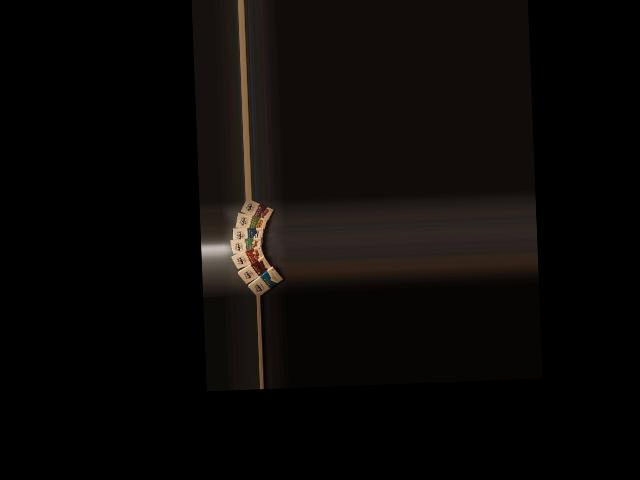chocolate: (246, 265, 285, 295)
